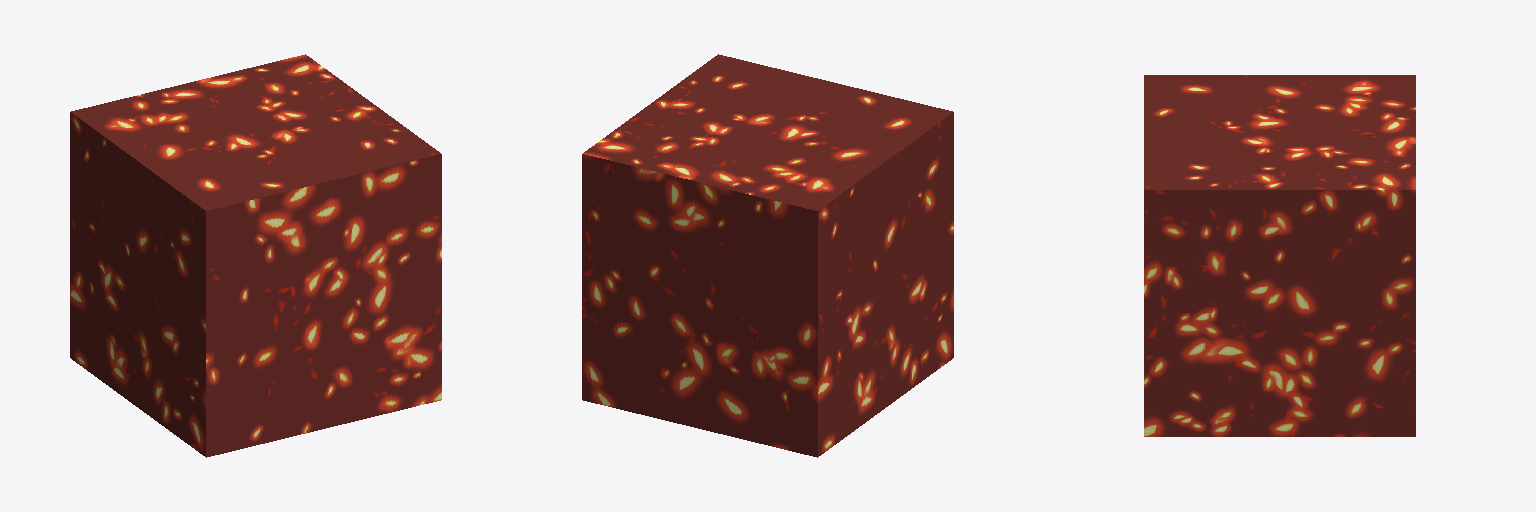
The picture shows the model from 3 angles: view 1: azimuth 30°, elevation 25°; view 2: azimuth 150°, elevation 25°; view 3: azimuth 270°, elevation 25°; orthographic projection.
Visible parts, largest first — view 1: Cube; view 2: Cube; view 3: Cube.
Part boxes in pixels (left/top/right/bottom): Cube: left=70, top=54, right=441, bottom=457; Cube: left=582, top=54, right=953, bottom=457; Cube: left=1144, top=75, right=1415, bottom=436.
Bounding box in the file's own units: 1 × 1 × 1.
Materials: 1 (1 with a texture image).